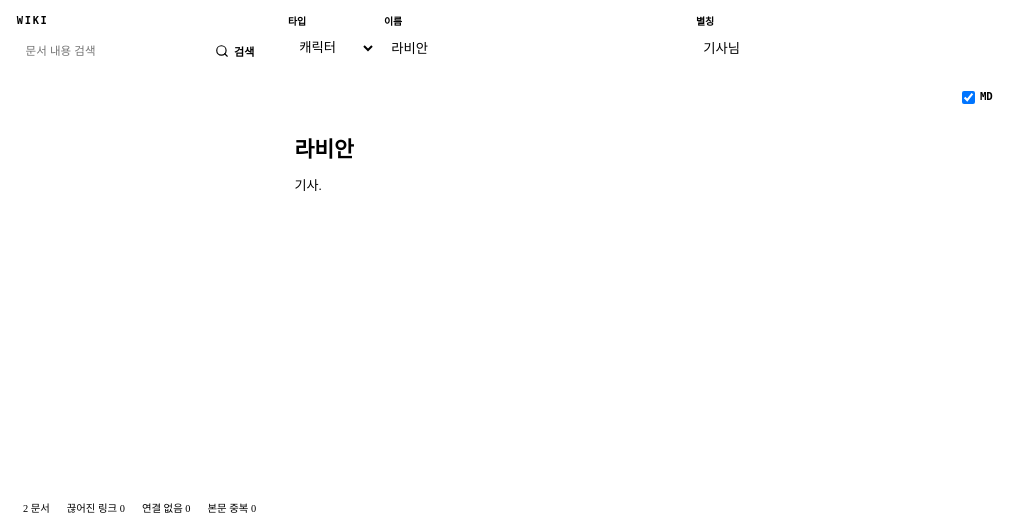
RisuBardWikiEditor › restores the Markdown preview toggle from the persisted database setting
Expected: the element showing "라비안 기사." is shown, [294,138,354,193]
Click the checkbox labelled "MD".
click(968, 97)  # box [962,91,975,104]
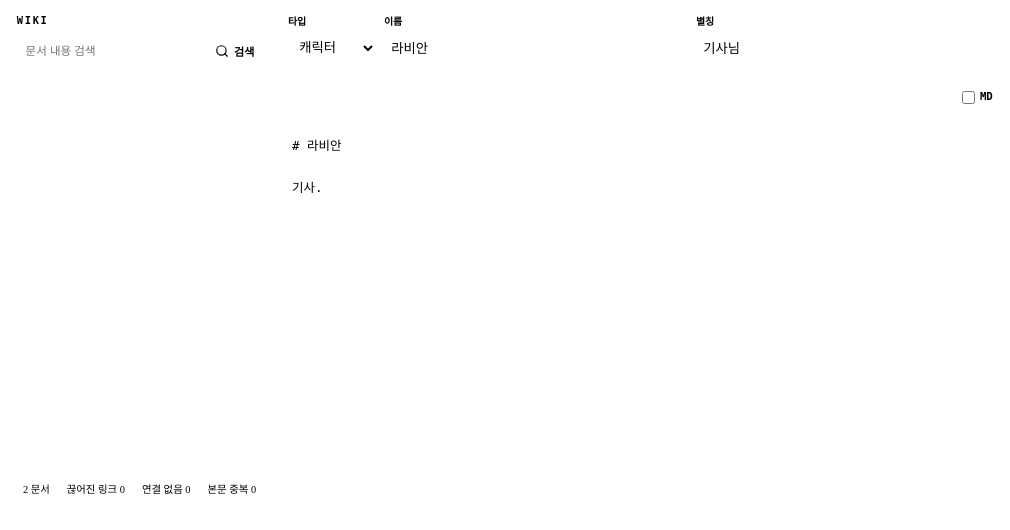
Now the checkbox labelled "MD" is not checked, box [962,91,975,104]
